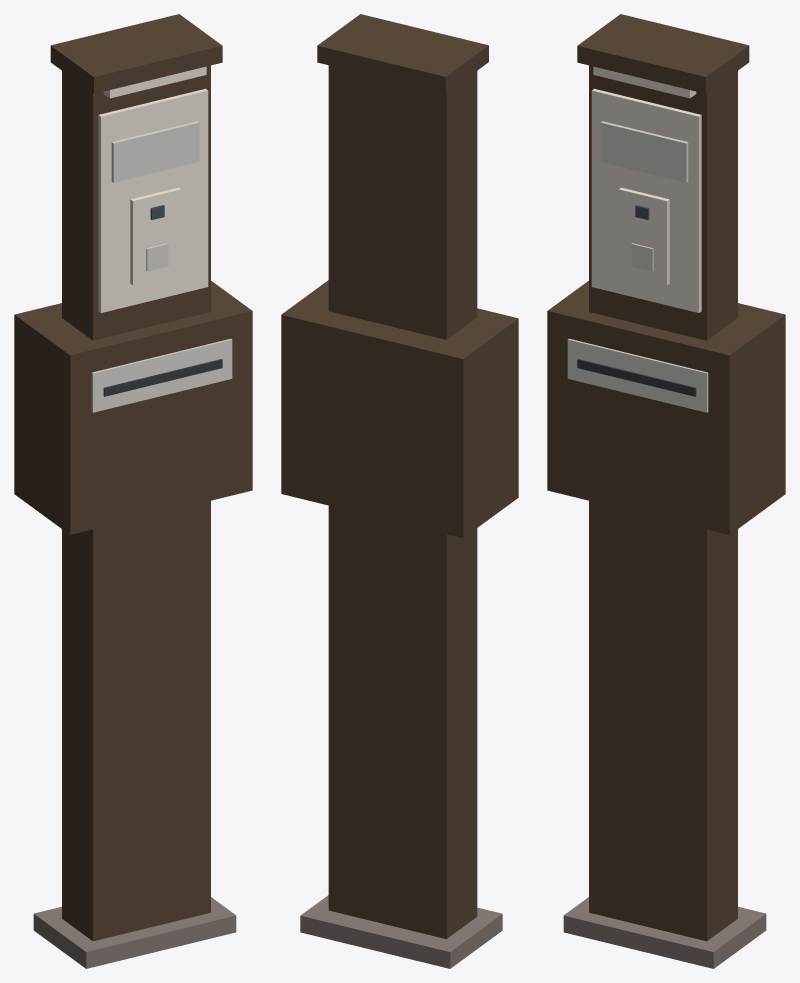
Rendered from SM_Lot_FunctionPost_Bronze_Recess_01.gltf.
The picture shows the model from 3 angles, left to right: view 1: azimuth 30°, elevation 25°; view 2: azimuth 150°, elevation 25°; view 3: azimuth 330°, elevation 25°; orthographic projection.
Parts seen in each view (by area): view 1: SM_Lot_FunctionPost_Bronze_Recess_01; view 2: SM_Lot_FunctionPost_Bronze_Recess_01; view 3: SM_Lot_FunctionPost_Bronze_Recess_01.
Boxes of the visible parts, x1,y1,x2,y2 form: SM_Lot_FunctionPost_Bronze_Recess_01: [14, 14, 252, 968]; SM_Lot_FunctionPost_Bronze_Recess_01: [281, 14, 518, 968]; SM_Lot_FunctionPost_Bronze_Recess_01: [547, 14, 785, 968].
Bounding box in the file's own units: 0.34 × 1.58 × 0.187.
Materials: 1 (1 with a texture image).
